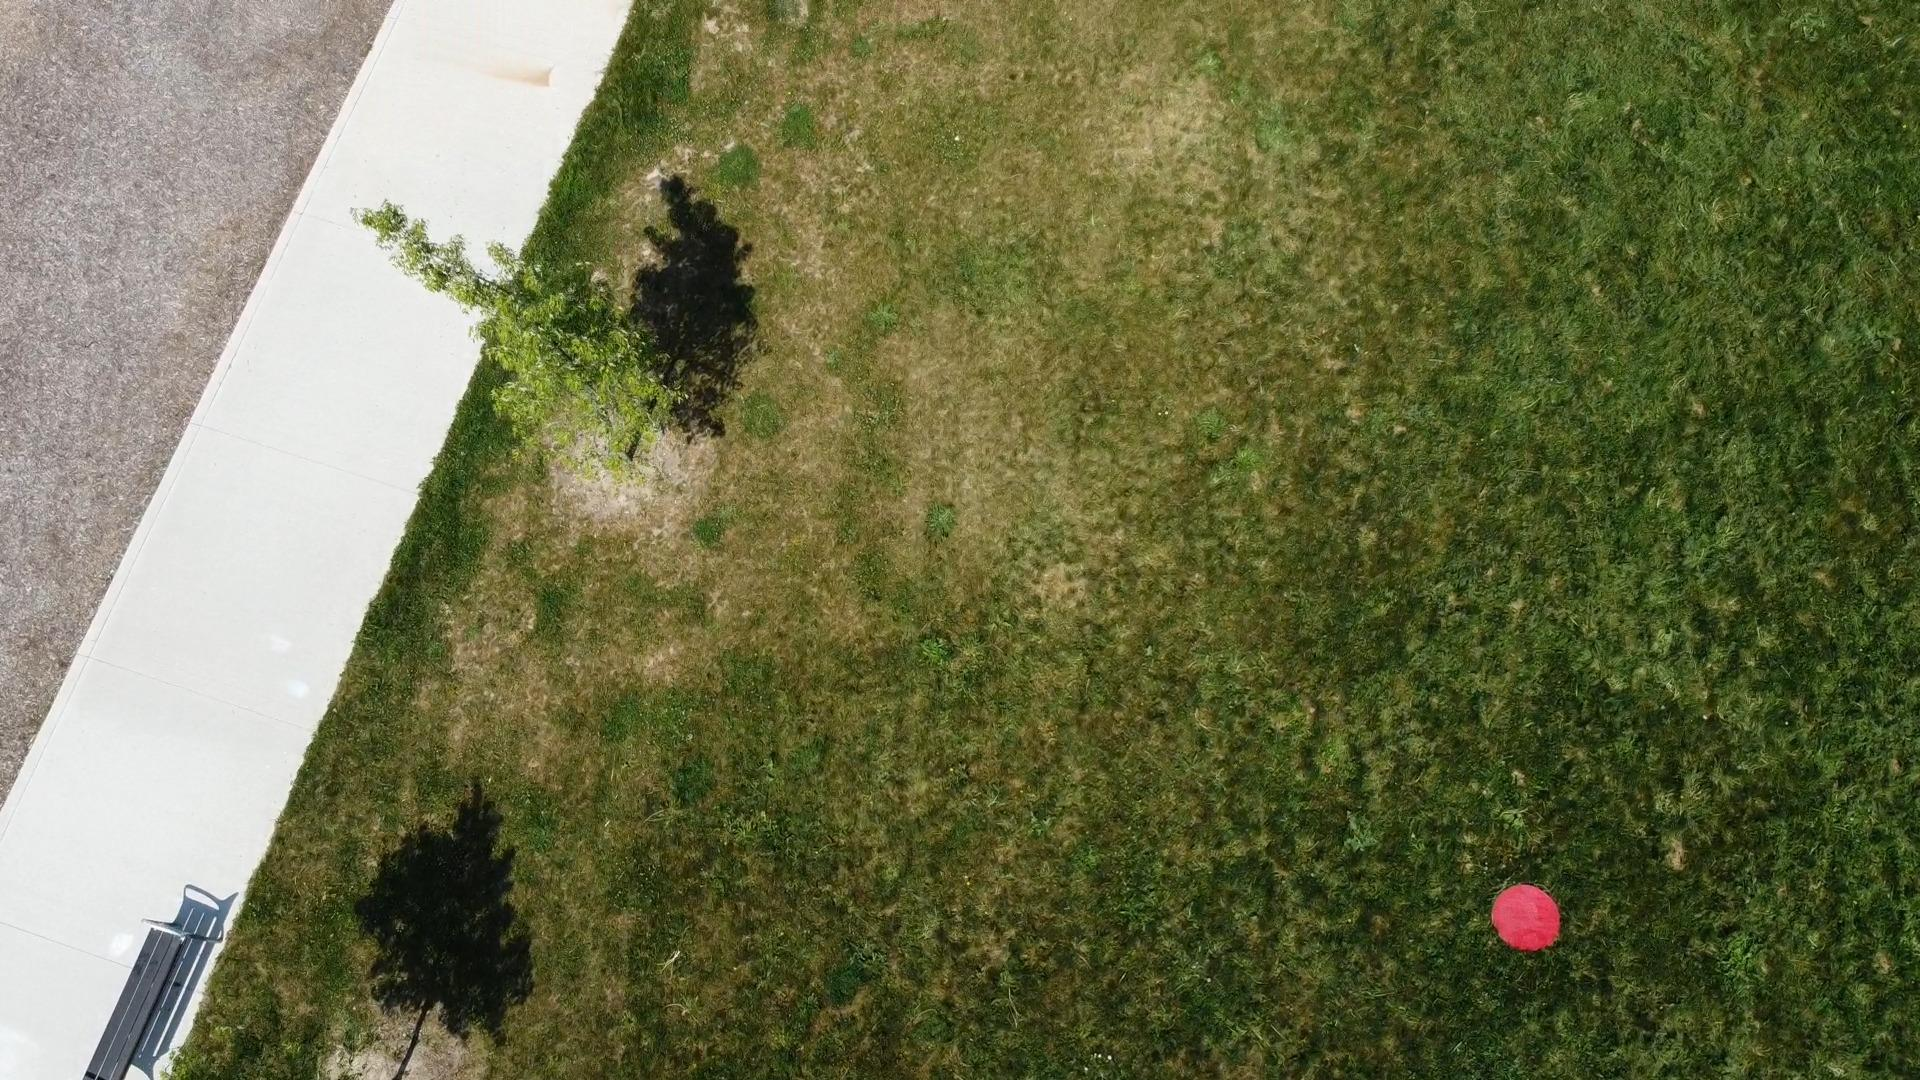Red: (1489, 882, 1563, 955)
